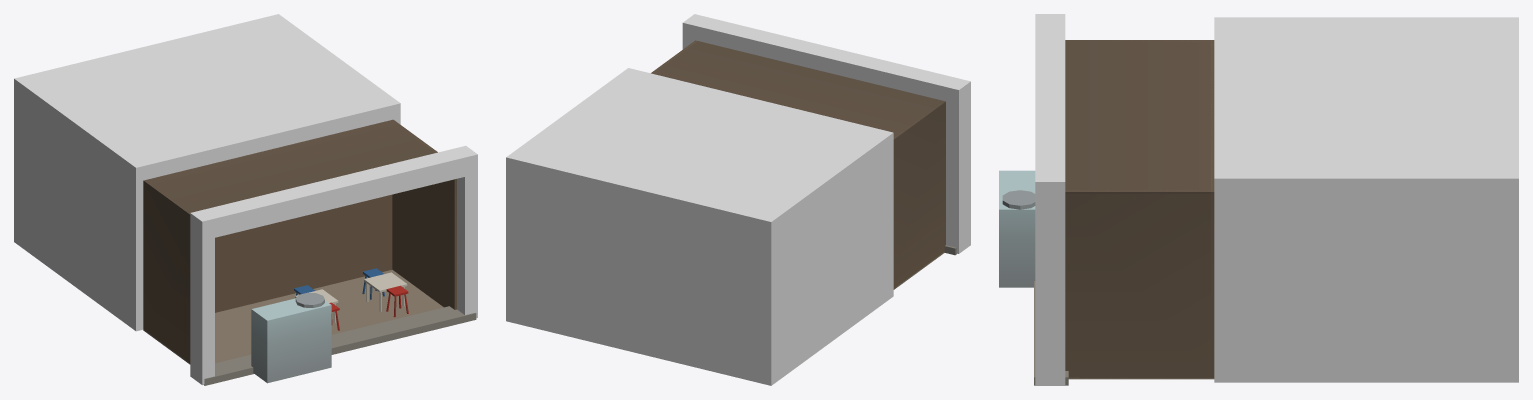
File: tret_quan_pho_60.glb
The picture shows the model from 3 angles, left to right: view 1: azimuth 30°, elevation 25°; view 2: azimuth 150°, elevation 25°; view 3: azimuth 270°, elevation 25°; orthographic projection. The views are drawn at different scales.
Visible parts, largest first — view 1: tret_quan_pho_60; view 2: tret_quan_pho_60; view 3: tret_quan_pho_60.
Part boxes in pixels (<box>): tret_quan_pho_60: <box>14,14,477,385</box>; tret_quan_pho_60: <box>506,14,970,385</box>; tret_quan_pho_60: <box>999,14,1518,385</box>.
Size of the model in its own units: 6 by 3.42 by 7.85.
